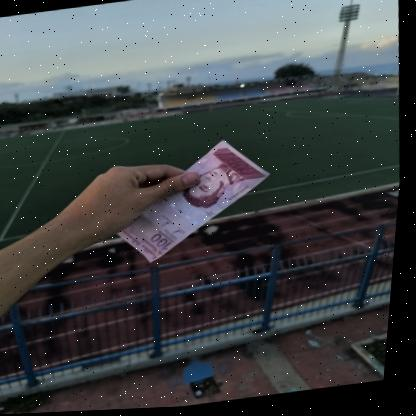one_hundred-front-vef: (109, 135, 284, 269)
